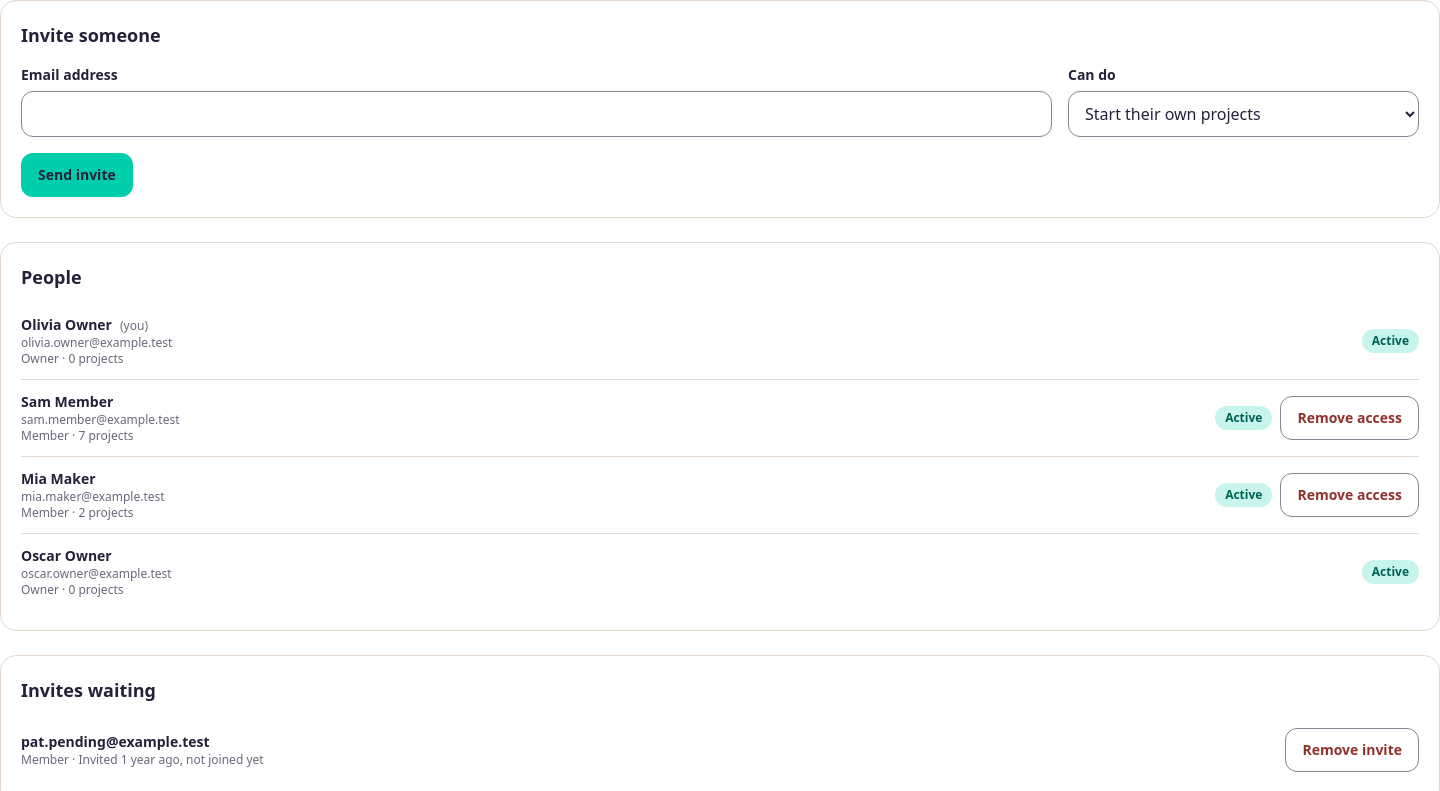
Test: TeamManager: people › removes access after the confirmation, shows it, and can give it back
The width and height of the screenshot is (1440, 791).
Click the button with aria-label "Remove access for Mia Maker": (1350, 495) [1280,473,1419,517]
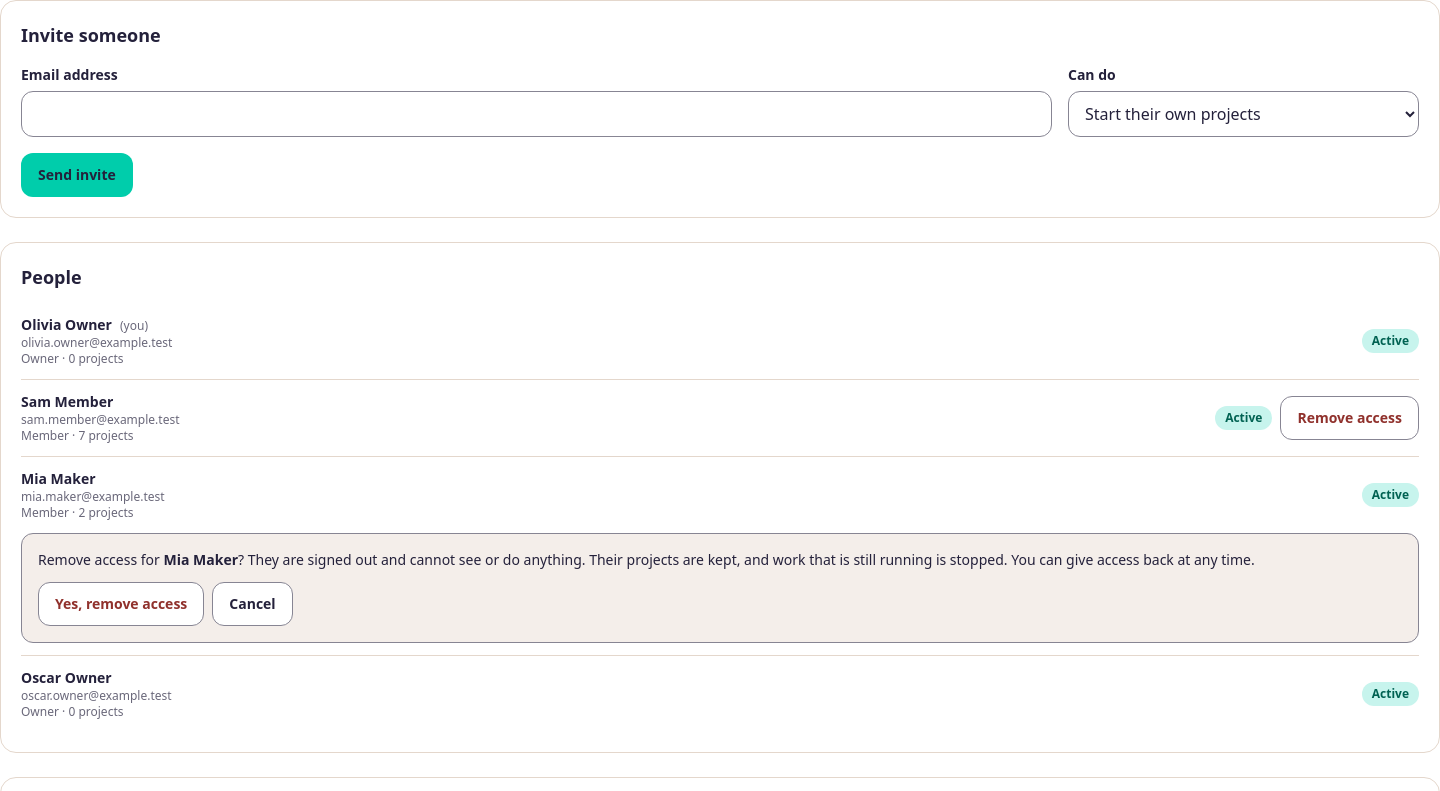
Click the button with aria-label "Yes, remove access for Mia Maker": (121, 604) [38,582,204,626]
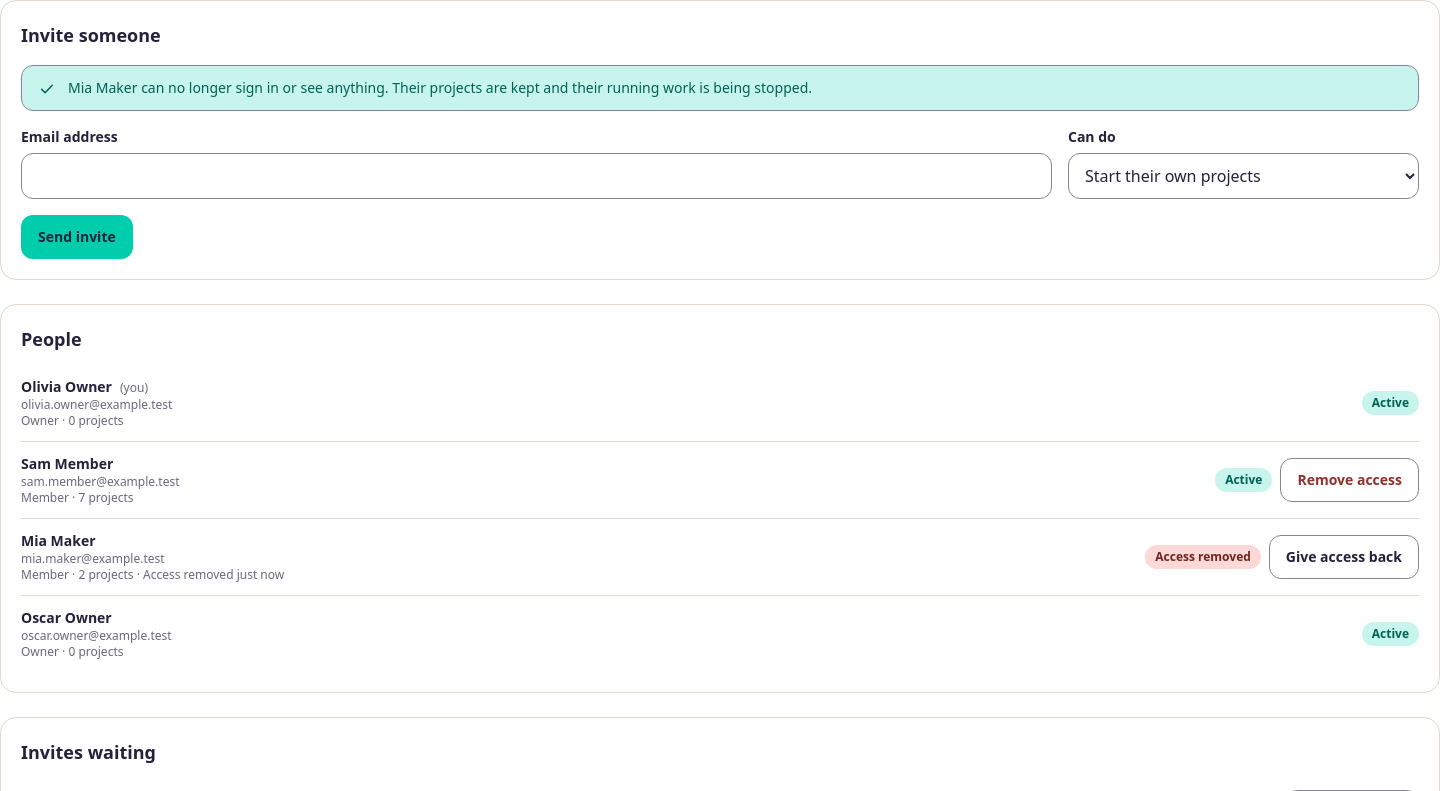
Result: the text "Mia Maker can no longer sign in" is shown at [68,78,812,97]
Result: the text "Access removed" is shown at [1145,545,1261,569]
Click the button with aria-label "Give access back to Mia Maker": (1344, 557) [1269,535,1419,579]
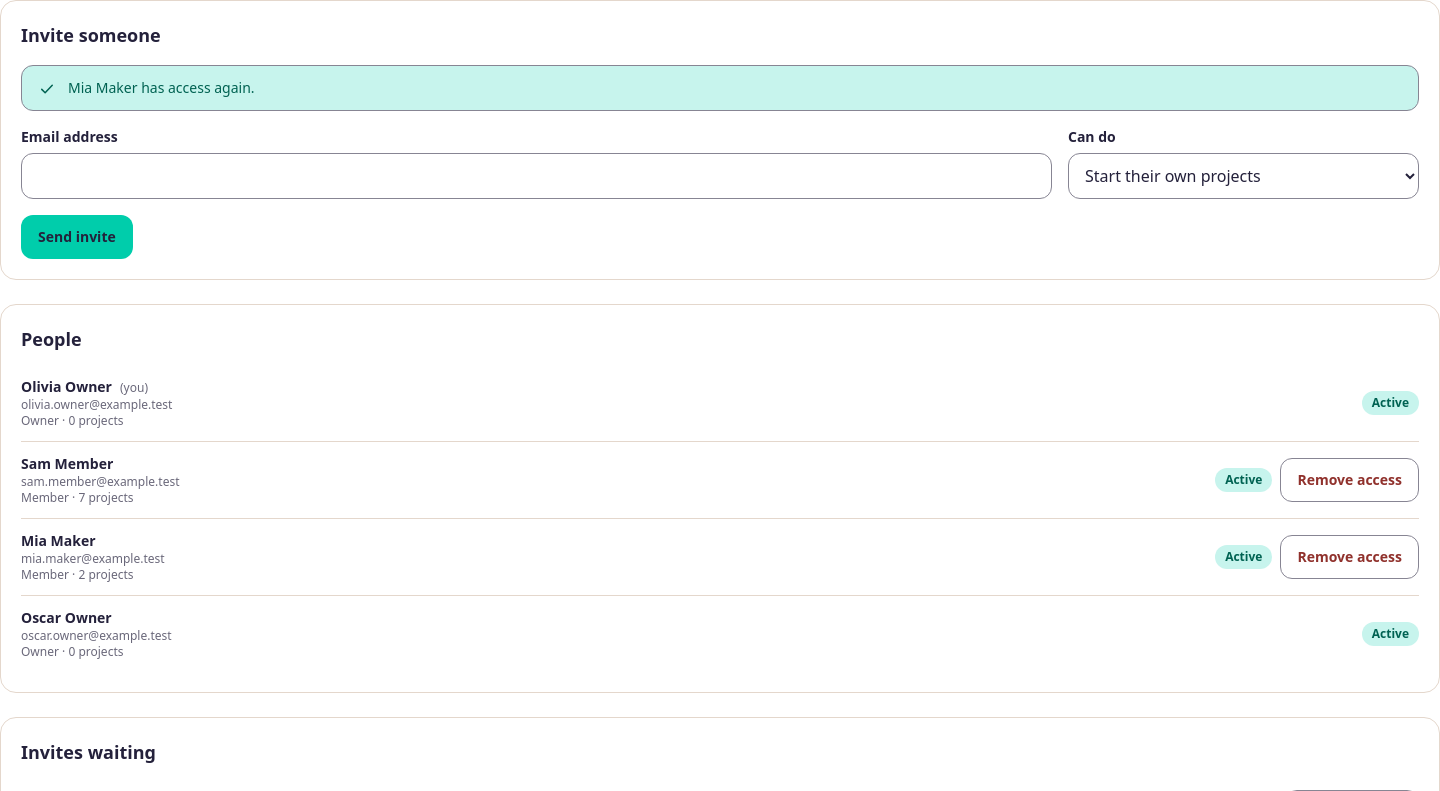
Result: the text "Mia Maker has access again." is shown at [68,78,255,98]
Result: the button with aria-label "Remove access for Mia Maker" is shown at [1280,535,1419,579]
